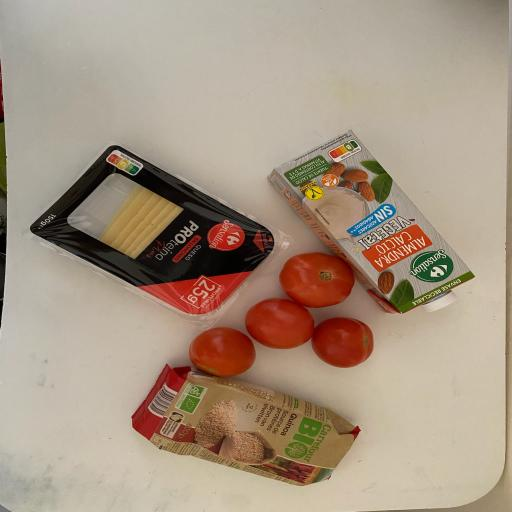cheese: (27, 140, 278, 320)
milk_almond: (267, 127, 479, 319)
quinoa: (129, 360, 364, 490)
tomato: (278, 250, 356, 310), (241, 294, 320, 351), (188, 324, 256, 381), (309, 314, 376, 370)
